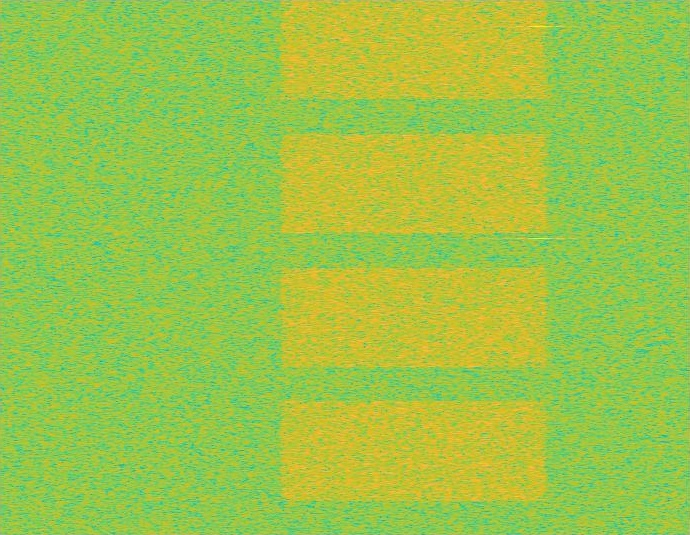5G: (276, 0, 552, 534)
Radar: (533, 0, 547, 534)
